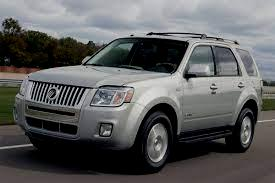Mercury: (46, 86, 62, 103)
